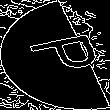P_E: (10, 30, 100, 80)
